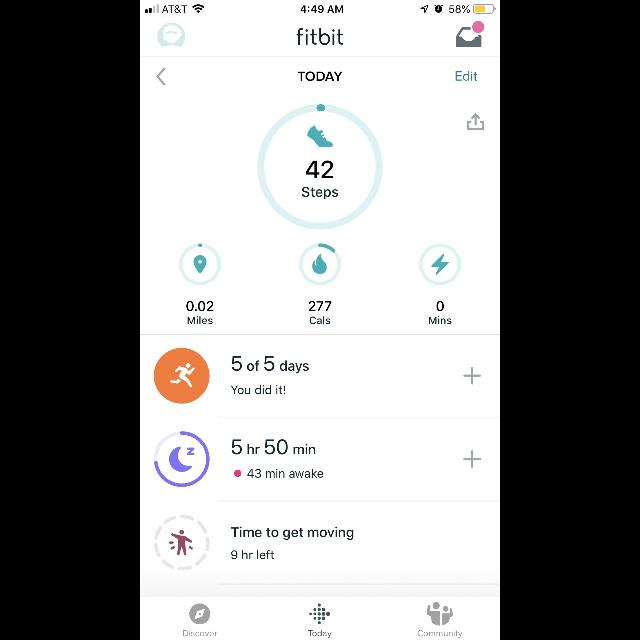icon: (179, 243, 221, 285), (463, 450, 481, 468), (463, 367, 481, 385), (468, 114, 484, 130), (157, 68, 166, 86)
image: (258, 104, 382, 230), (154, 348, 210, 404), (154, 431, 210, 487), (154, 515, 210, 571), (299, 244, 341, 286), (419, 243, 461, 285), (456, 21, 484, 47), (157, 22, 185, 48), (427, 602, 453, 626), (190, 604, 210, 624), (310, 604, 330, 624)
text: (231, 526, 353, 540), (232, 356, 308, 374), (232, 440, 316, 454), (297, 28, 343, 46), (248, 468, 324, 478), (306, 160, 334, 178), (302, 187, 338, 200), (230, 386, 286, 394), (298, 71, 342, 81), (232, 550, 274, 560), (418, 630, 462, 638), (186, 300, 214, 312), (308, 301, 332, 311), (456, 71, 478, 81), (182, 630, 218, 636), (188, 316, 212, 324), (308, 630, 332, 638), (429, 316, 451, 324), (310, 316, 330, 324), (436, 300, 444, 312)
uppertaskbar: (140, 0, 500, 14)
